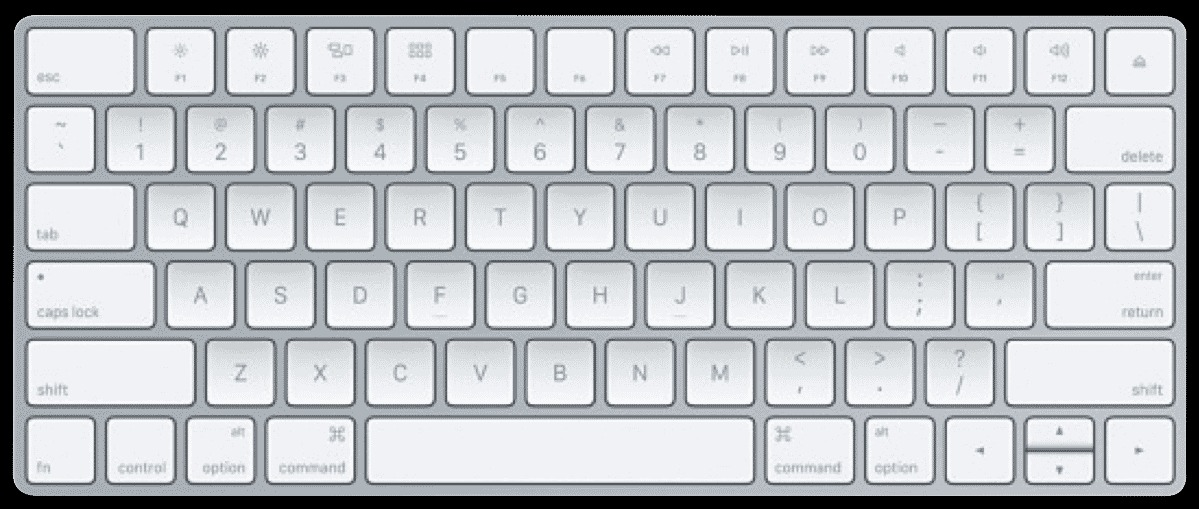keyboard: (18, 23, 1181, 489)
